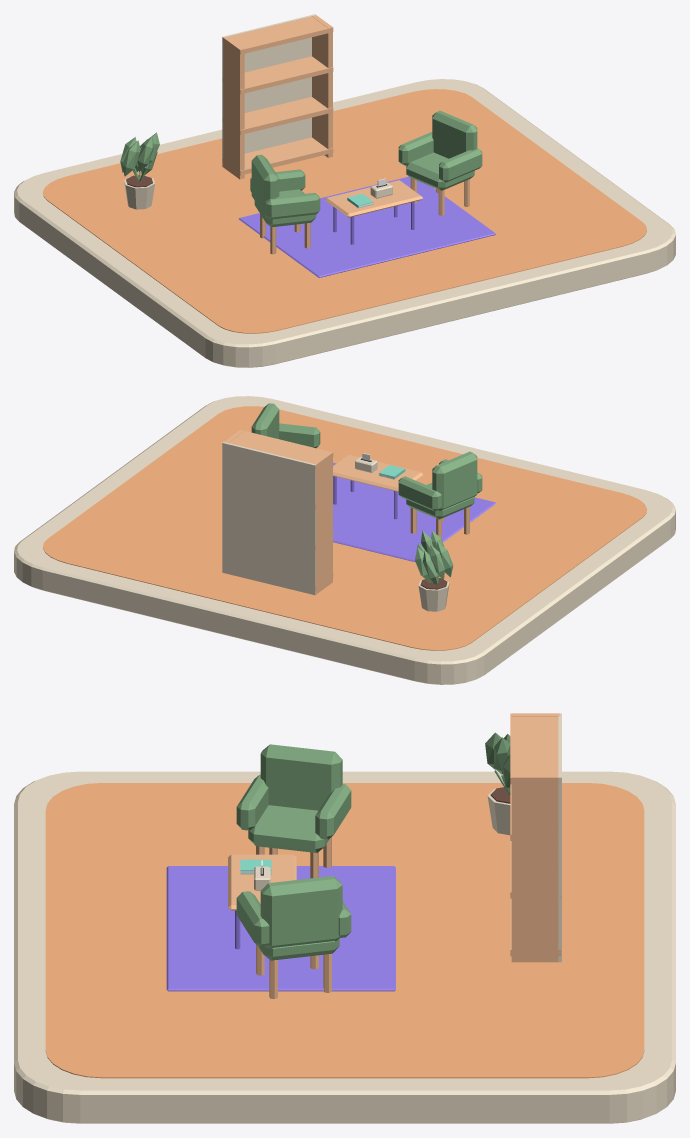
3 renders of one model, top to bottom at view 1: azimuth 30°, elevation 25°; view 2: azimuth 150°, elevation 25°; view 3: azimuth 270°, elevation 25°, orthographic. The views are drawn at different scales.
Visible parts, largest first — view 1: COM-02 Floor Surface, COM-01 Rounded Base Direct, Rug, Back.002, Side, Pot, Side.001, Shelf.003, Shelf.002, Shelf.001, Back.001, Shelf (+8 smaller); view 2: COM-02 Floor Surface, COM-01 Rounded Base Direct, Back.002, Rug, Pot, Side, Back, Shelf.003, Rounded table top, Arm.001, Arm.003, Back.001 (+1 smaller); view 3: COM-02 Floor Surface, COM-01 Rounded Base Direct, Rug, Side.001, Back.001, Back, Shelf.003, Cushion, Pot, Rounded table top, Arm.001, Arm (+3 smaller).
Boxes of the visible parts, left/top/right/bottom form: COM-02 Floor Surface: left=43, top=89, right=646, bottom=333; COM-01 Rounded Base Direct: left=14, top=79, right=675, bottom=367; Rug: left=239, top=176, right=495, bottom=277; Back.002: left=222, top=14, right=315, bottom=167; Side: left=223, top=36, right=244, bottom=179; Pot: left=120, top=132, right=159, bottom=209; Side.001: left=312, top=14, right=332, bottom=157; Shelf.003: left=222, top=16, right=333, bottom=54; Shelf.002: left=222, top=56, right=333, bottom=94; Shelf.001: left=222, top=97, right=333, bottom=134; Back.001: left=432, top=110, right=477, bottom=158; Shelf: left=222, top=137, right=333, bottom=175; COM-02 Floor Surface: left=43, top=406, right=646, bottom=650; COM-01 Rounded Base Direct: left=14, top=396, right=675, bottom=684; Back.002: left=222, top=442, right=315, bottom=595; Rug: left=333, top=462, right=495, bottom=562; Pot: left=415, top=530, right=453, bottom=611; Side: left=312, top=451, right=332, bottom=594; Back: left=432, top=451, right=477, bottom=510; Shelf.003: left=229, top=430, right=333, bottom=469; Rounded table top: left=333, top=454, right=422, bottom=491; Arm.001: left=398, top=476, right=441, bottom=511; Arm.003: left=279, top=423, right=320, bottom=448; Back.001: left=251, top=403, right=279, bottom=438; COM-02 Floor Surface: left=45, top=783, right=644, bottom=1078; COM-01 Rounded Base Direct: left=14, top=771, right=675, bottom=1123; Rug: left=166, top=866, right=395, bottom=991; Side.001: left=511, top=774, right=559, bottom=962; Back.001: left=260, top=876, right=342, bottom=948; Back: left=260, top=744, right=342, bottom=810; Shelf.003: left=510, top=713, right=560, bottom=784; Cushion: left=248, top=805, right=329, bottom=852; Pot: left=485, top=732, right=510, bottom=835; Rounded table top: left=228, top=854, right=296, bottom=910; Arm.001: left=315, top=784, right=351, bottom=839; Arm: left=236, top=774, right=268, bottom=830.
Bounding box in the file's own units: 6 × 1.9 × 5.2.
Materials: 1 (1 with a texture image).
